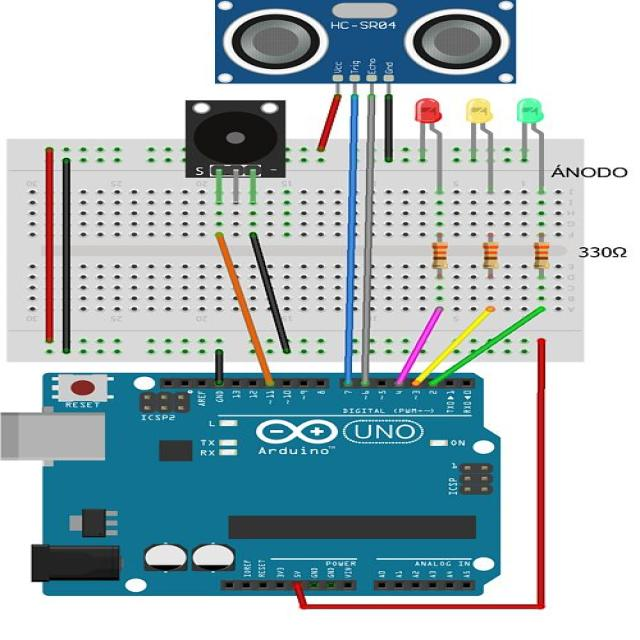Arduino: (0, 361, 516, 611)
Ultrasonic Sensor: (198, 0, 536, 89)
